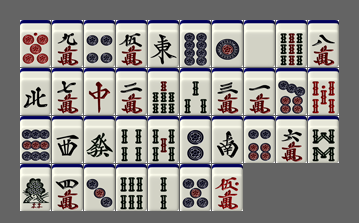0m: (212, 164, 243, 211)
0p: (20, 20, 51, 67)
0s: (308, 68, 339, 115)
1m: (244, 68, 275, 115)
1p: (212, 20, 243, 67)
1s: (20, 164, 51, 211)
1z: (148, 20, 179, 67)
2m: (116, 68, 147, 115)
2p: (180, 116, 211, 163)
2s: (148, 164, 179, 211)
2z: (212, 116, 243, 163)
3m: (212, 68, 243, 115)
3p: (84, 164, 115, 211)
3s: (180, 68, 211, 115)
3z: (52, 116, 83, 163)
4m: (52, 164, 83, 211)
4p: (84, 20, 115, 67)
4s: (116, 116, 147, 163)
4z: (20, 68, 51, 115)
5m: (116, 20, 147, 67)
5p: (180, 164, 211, 211)
5s: (148, 116, 179, 163)
5z: (244, 20, 275, 67)
6m: (276, 116, 307, 163)
6p: (244, 116, 275, 163)
6s: (116, 164, 147, 211)
6z: (84, 116, 115, 163)
7m: (52, 68, 83, 115)
7p: (276, 68, 307, 115)
7s: (148, 68, 179, 115)
7z: (84, 68, 115, 115)
8m: (308, 20, 339, 67)
8p: (180, 20, 211, 67)
8s: (308, 116, 339, 163)
9m: (52, 20, 83, 67)
9p: (20, 116, 51, 163)
9s: (276, 20, 307, 67)
